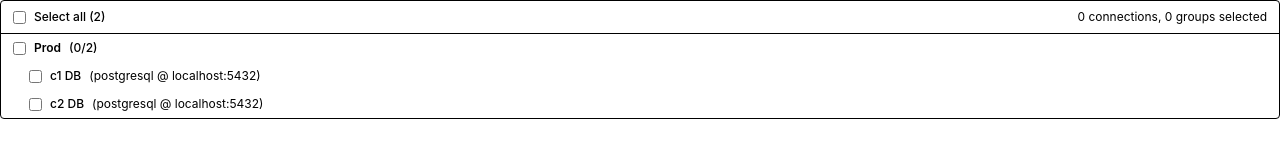
Test: SelectionTree › scenario single-conn: leaf checkbox toggles a single connection
Click the checkbox labelled "c1 DB (postgresql @ localhost:5432)" at [36, 76], box [29, 70, 42, 82]
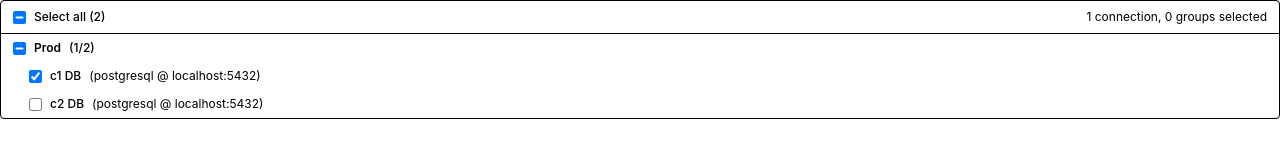
expect the checkbox labelled "c2 DB (postgresql @ localhost:5432)" is not checked: met, box [29, 98, 42, 110]
expect the checkbox labelled "c1 DB (postgresql @ localhost:5432)" is checked: met, box [29, 70, 42, 82]
expect the text "1 connection, 0 groups selected" is shown: met, box [1086, 9, 1267, 25]
